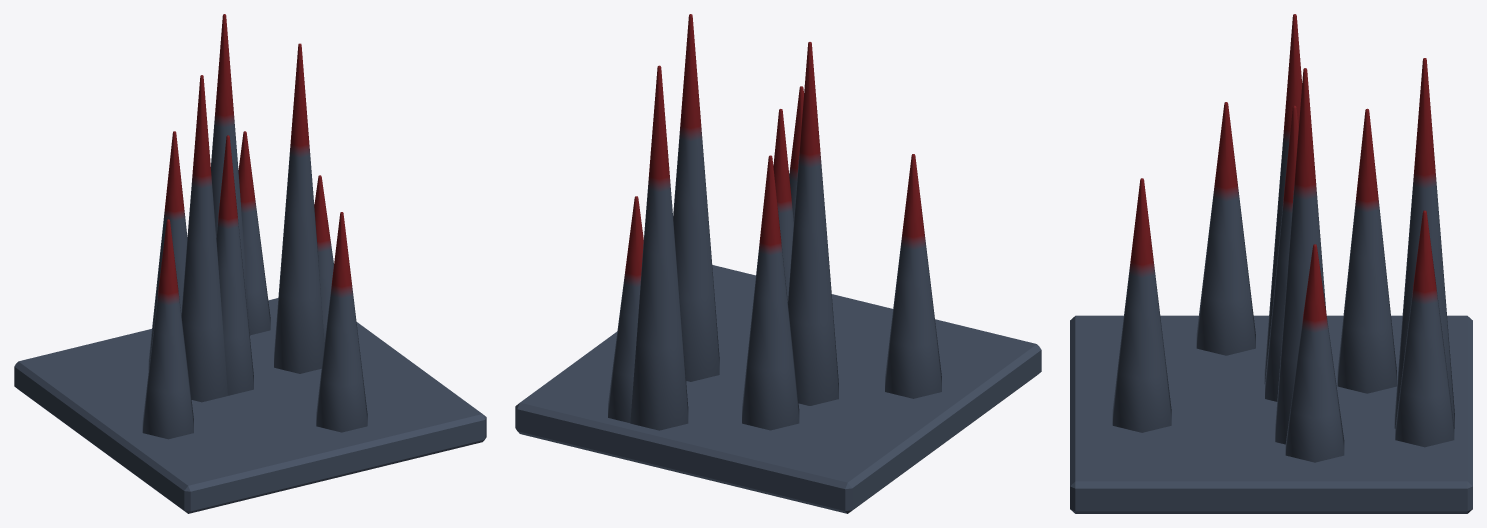
File: prop_spikes5_7ae5.glb
3 views of the same model, side by side, from view 1: azimuth 30°, elevation 25°; view 2: azimuth 150°, elevation 25°; view 3: azimuth 270°, elevation 25° (orthographic). The views are drawn at different scales.
Visible parts, largest first — view 1: prop_spikes5_7ae5; view 2: prop_spikes5_7ae5; view 3: prop_spikes5_7ae5.
Part boxes in pixels (x1,y1,x2,y2): prop_spikes5_7ae5: (14,14,486,513); prop_spikes5_7ae5: (515,14,1041,513); prop_spikes5_7ae5: (1070,14,1472,513).
Bounding box in the file's own units: 0.7954 × 0.8957 × 0.7954.
Materials: 1 (1 with a texture image).
